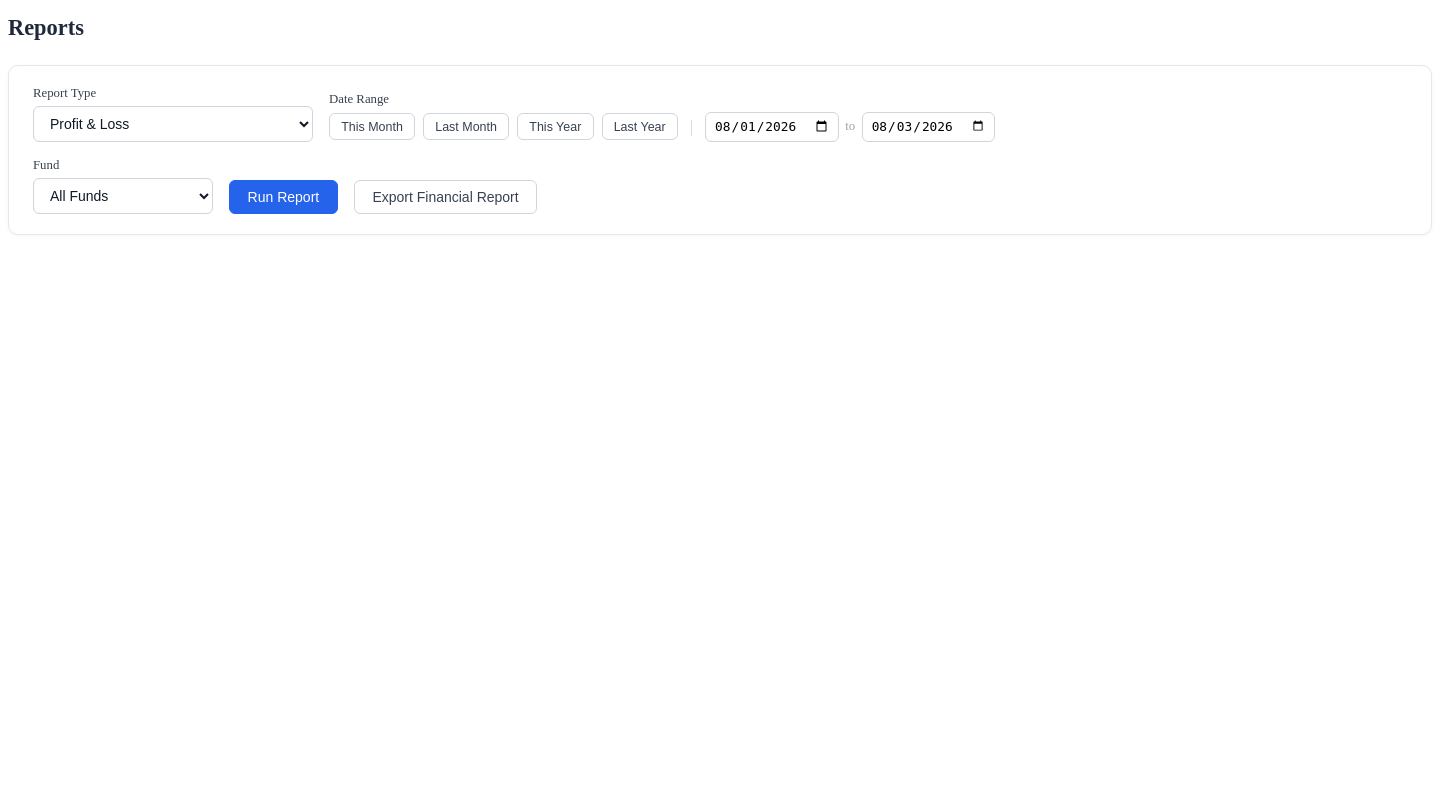
Reports financial export › shows error for failed reconciliation list fetch
The width and height of the screenshot is (1440, 810).
Click the button "Export Financial Report" at (446, 197), box x1=354 y1=180 x2=537 y2=214
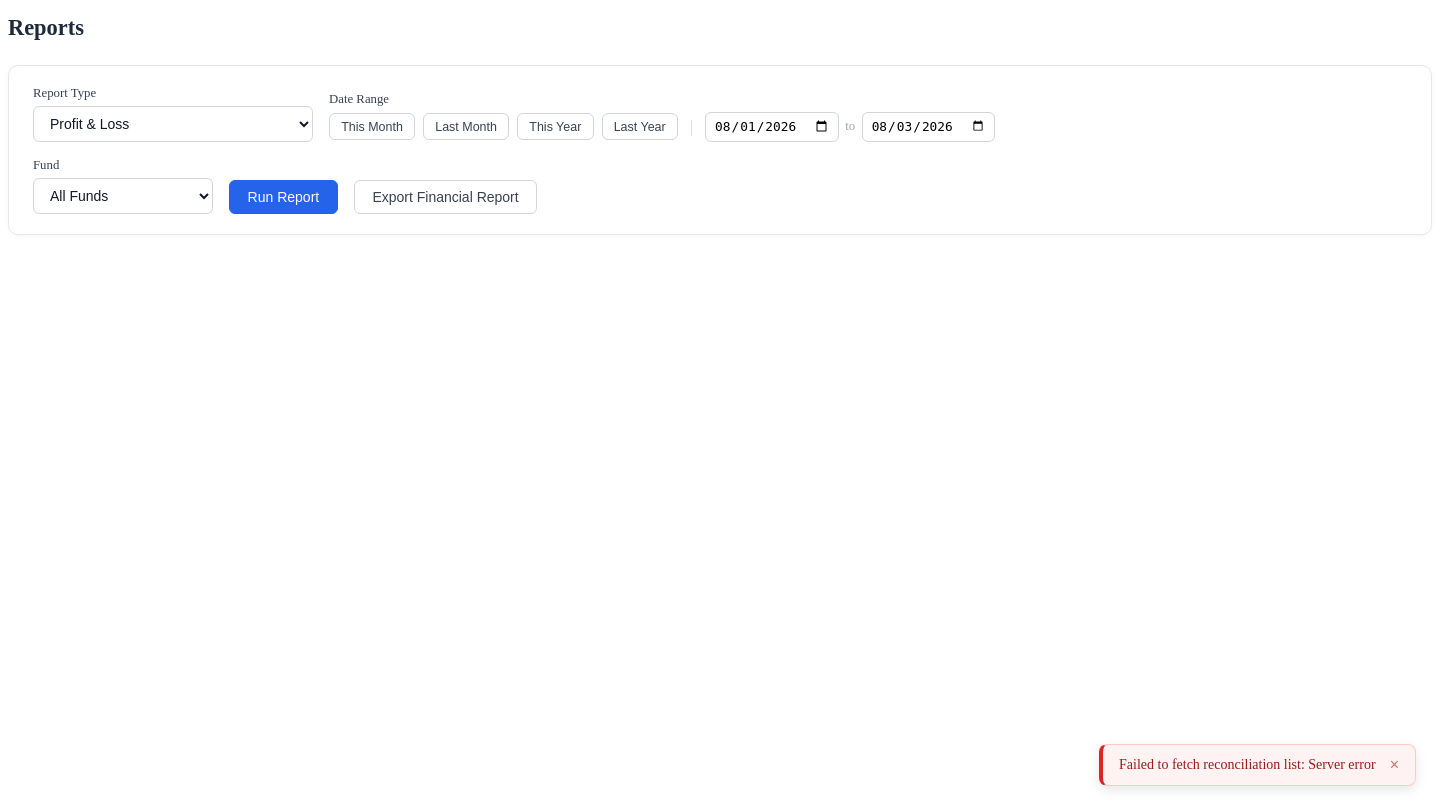
Check: the text "Failed to fetch reconciliation list" is shown, box x1=1119 y1=757 x2=1376 y2=772
